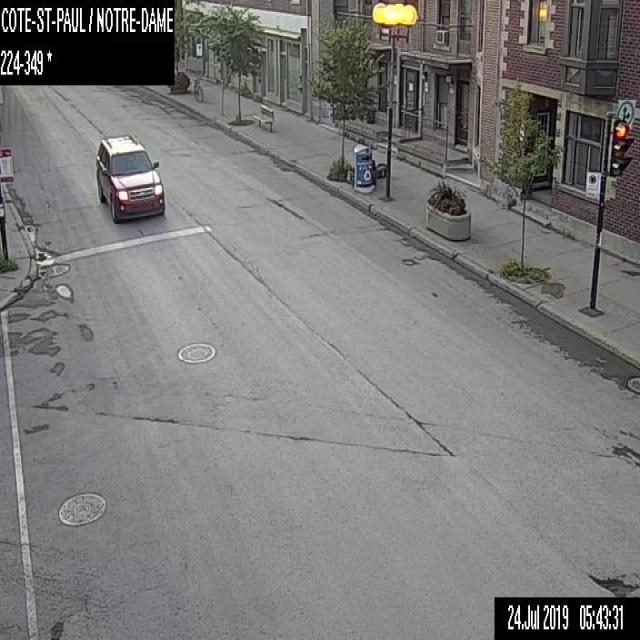vehicle: (94, 134, 164, 222)
